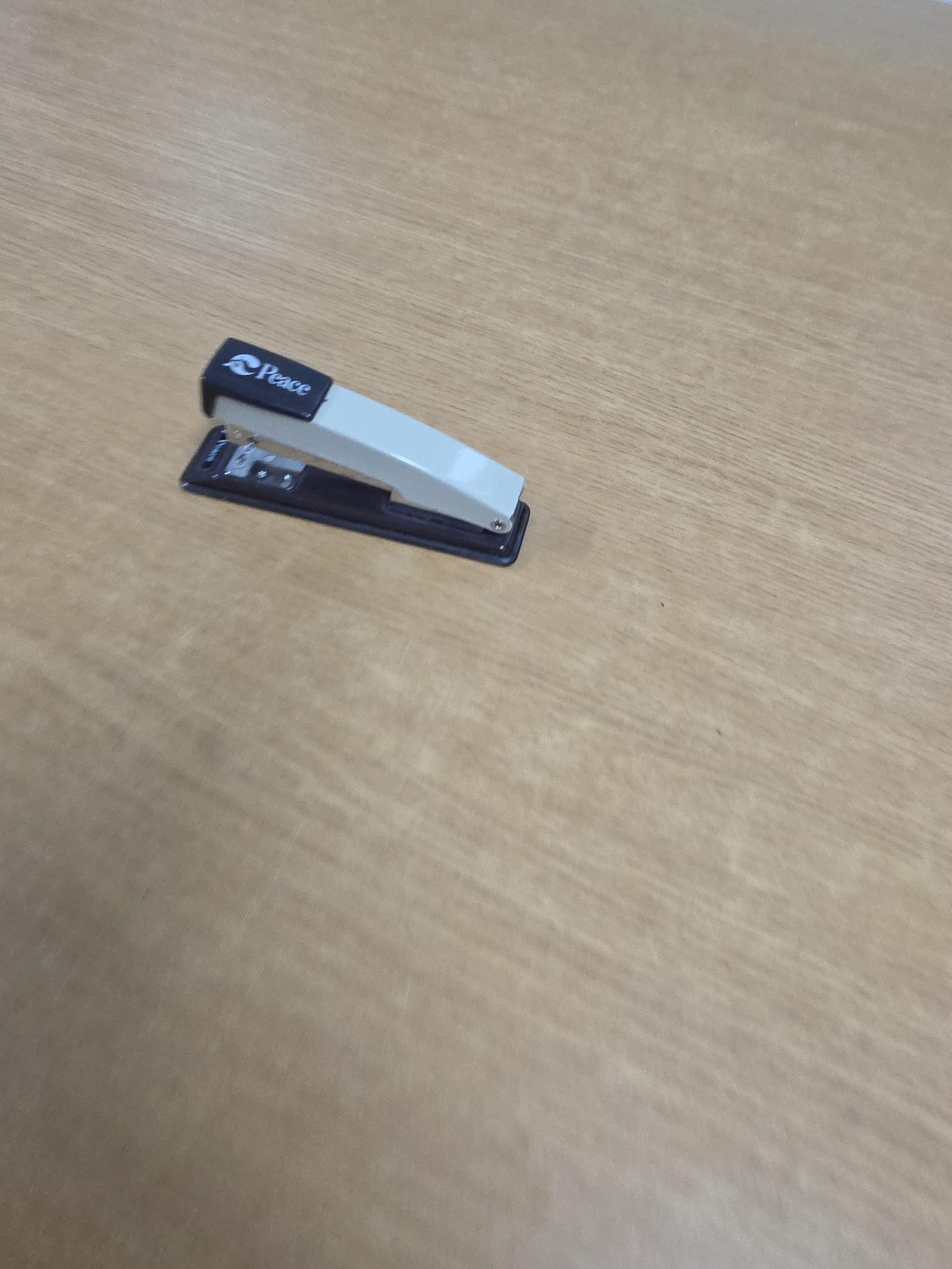stapler: (178, 337, 530, 568)
